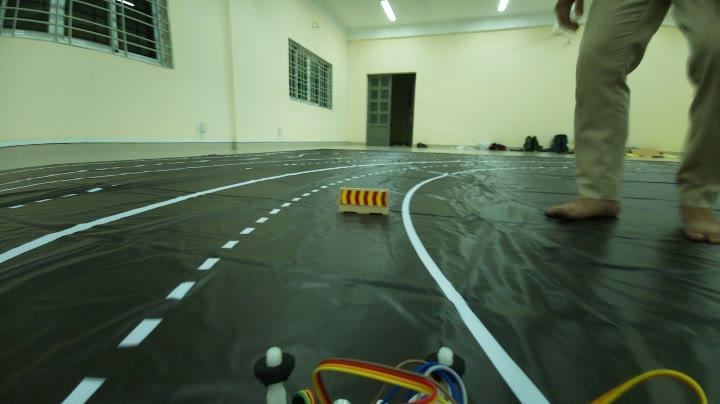roadblock: (334, 176, 393, 216)
